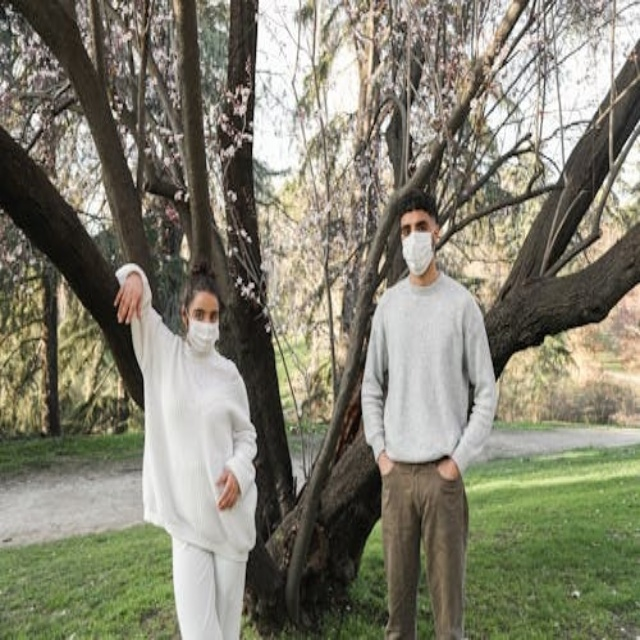Mascara: (401, 230, 436, 275), (185, 316, 219, 355)
Sin_gafas: (187, 302, 219, 321), (399, 219, 431, 236)
Sin_guantes: (113, 270, 146, 324), (215, 470, 240, 510)
